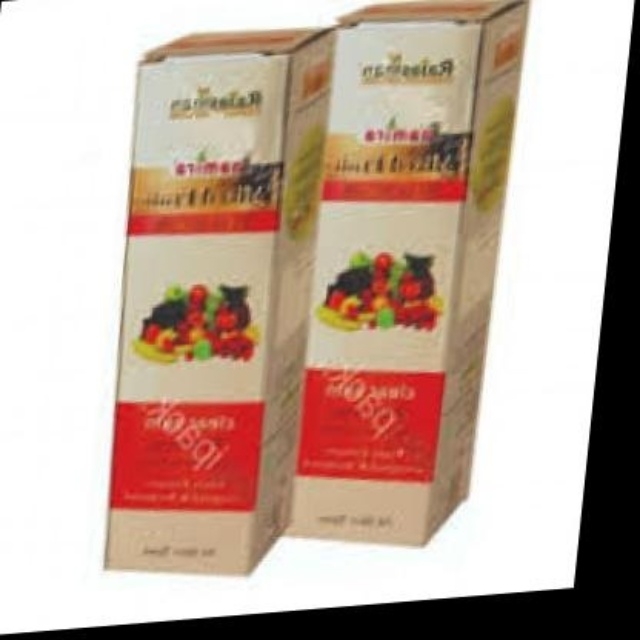trash: (288, 0, 526, 543), (106, 29, 331, 572)
